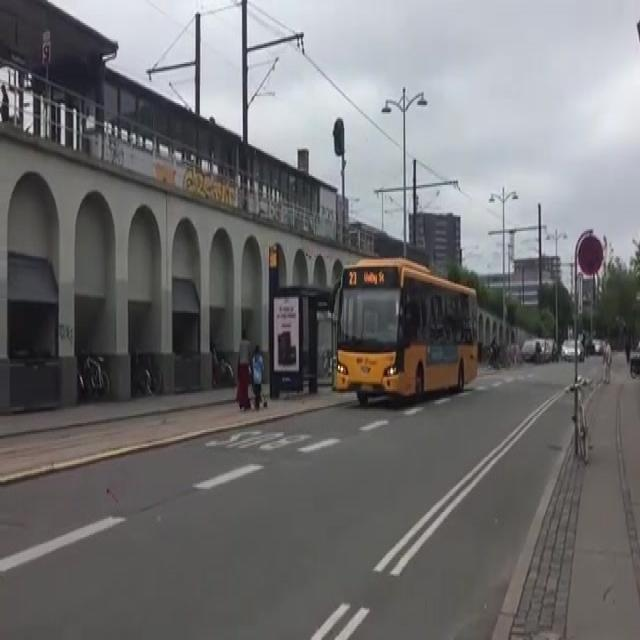Bus: (334, 252, 477, 398)
